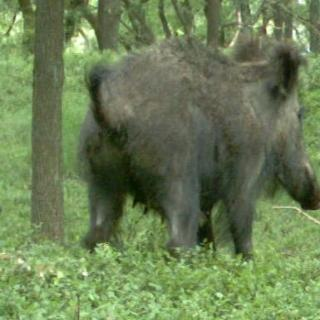Pig: (89, 35, 320, 266)
